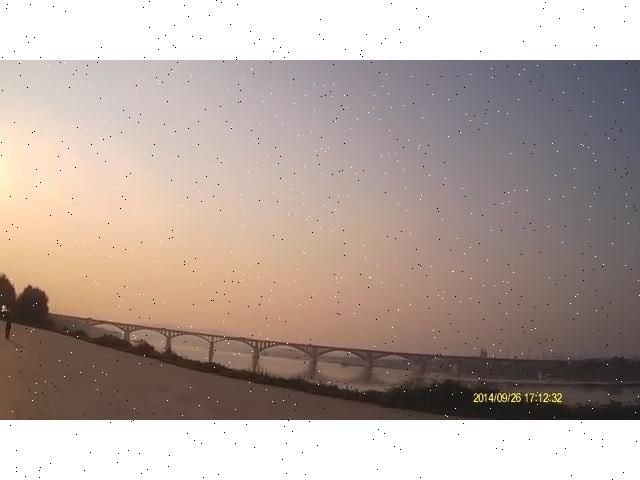Anti-Drone: (284, 205, 306, 227)
